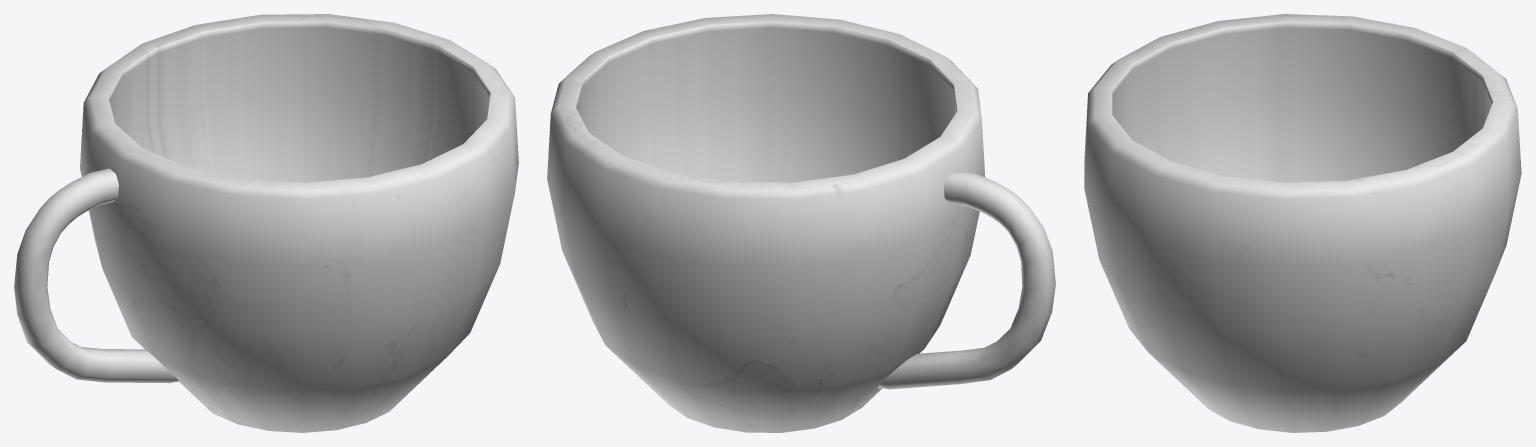
The model's file is Taza.fbx.
The picture shows the model from 3 angles, left to right: view 1: azimuth 30°, elevation 25°; view 2: azimuth 150°, elevation 25°; view 3: azimuth 270°, elevation 25°; orthographic projection.
Visible parts, largest first — view 1: tazaVacia; view 2: tazaVacia; view 3: tazaVacia.
Part boxes in pixels (x1,y1,x2,y2): tazaVacia: (14,14,518,432); tazaVacia: (547,14,1055,432); tazaVacia: (1084,14,1521,432).
Bounding box in the file's own units: 238 × 137 × 190.
Materials: 1 (1 with a texture image).
